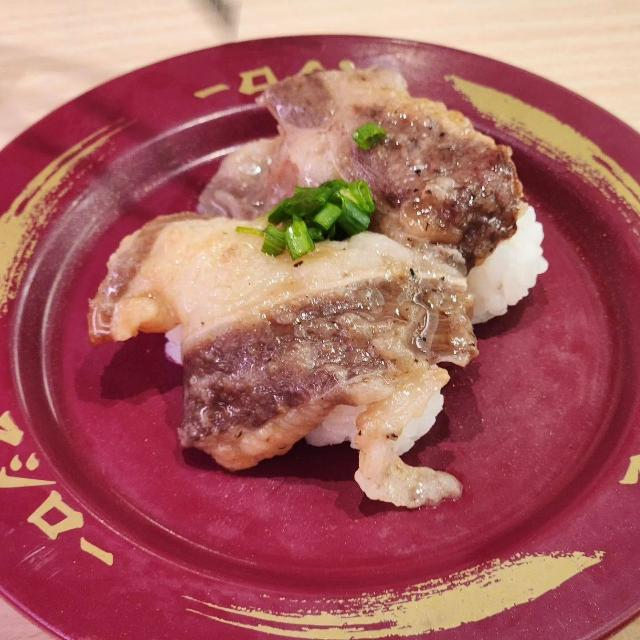janwhite: (17, 84, 628, 555)
